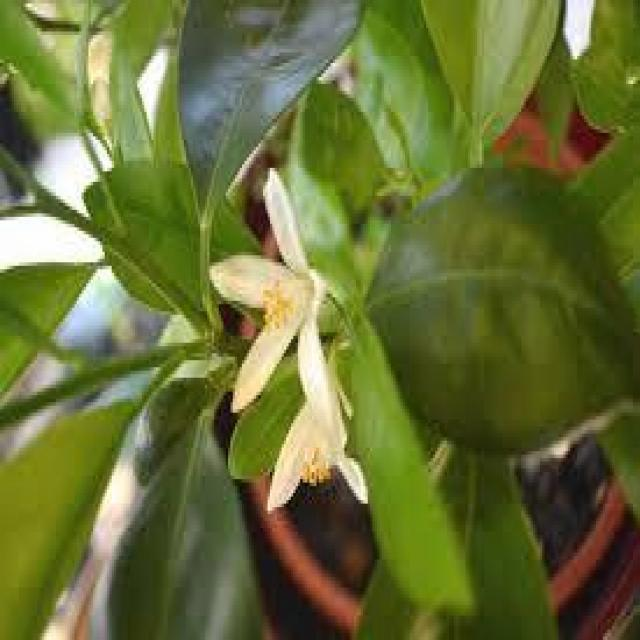Bunga: (212, 164, 342, 444), (265, 360, 370, 510)
